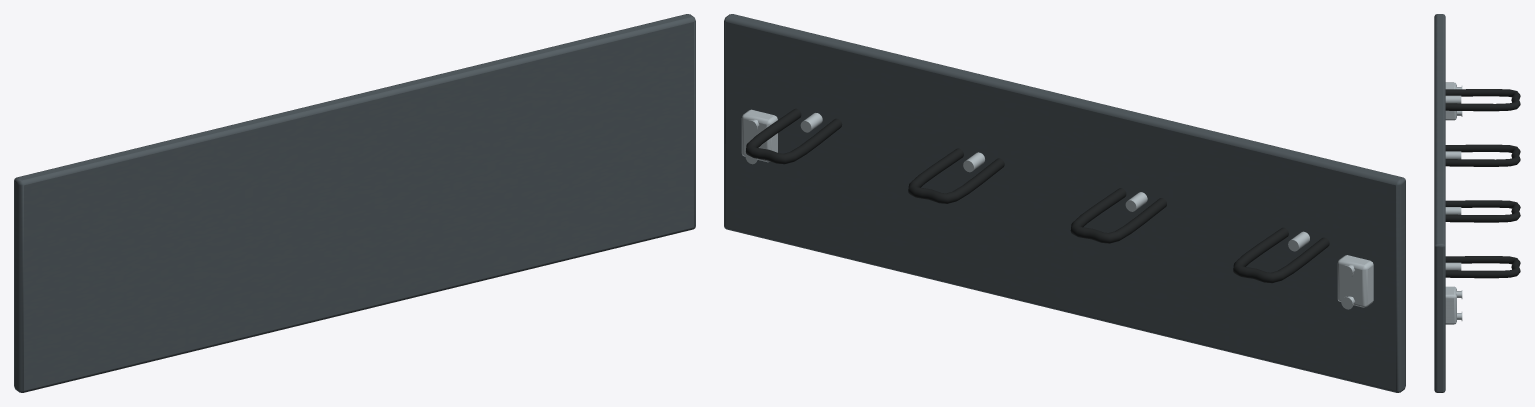
The model's file is StorageWallRack.fbx.
The picture shows the model from 3 angles, left to right: view 1: azimuth 30°, elevation 25°; view 2: azimuth 150°, elevation 25°; view 3: azimuth 270°, elevation 25°; orthographic projection. The views are drawn at different scales.
Parts seen in each view (by area): view 1: StorageWallRack__Body; view 2: StorageWallRack__Body; view 3: StorageWallRack__Body.
Part boxes in pixels (x1,y1,x2,y2): StorageWallRack__Body: [14, 14, 695, 392]; StorageWallRack__Body: [724, 14, 1405, 392]; StorageWallRack__Body: [1434, 14, 1520, 392].
Bounding box in the file's own units: 140 × 42 × 21.98.
Materials: 1 (1 with a texture image).
